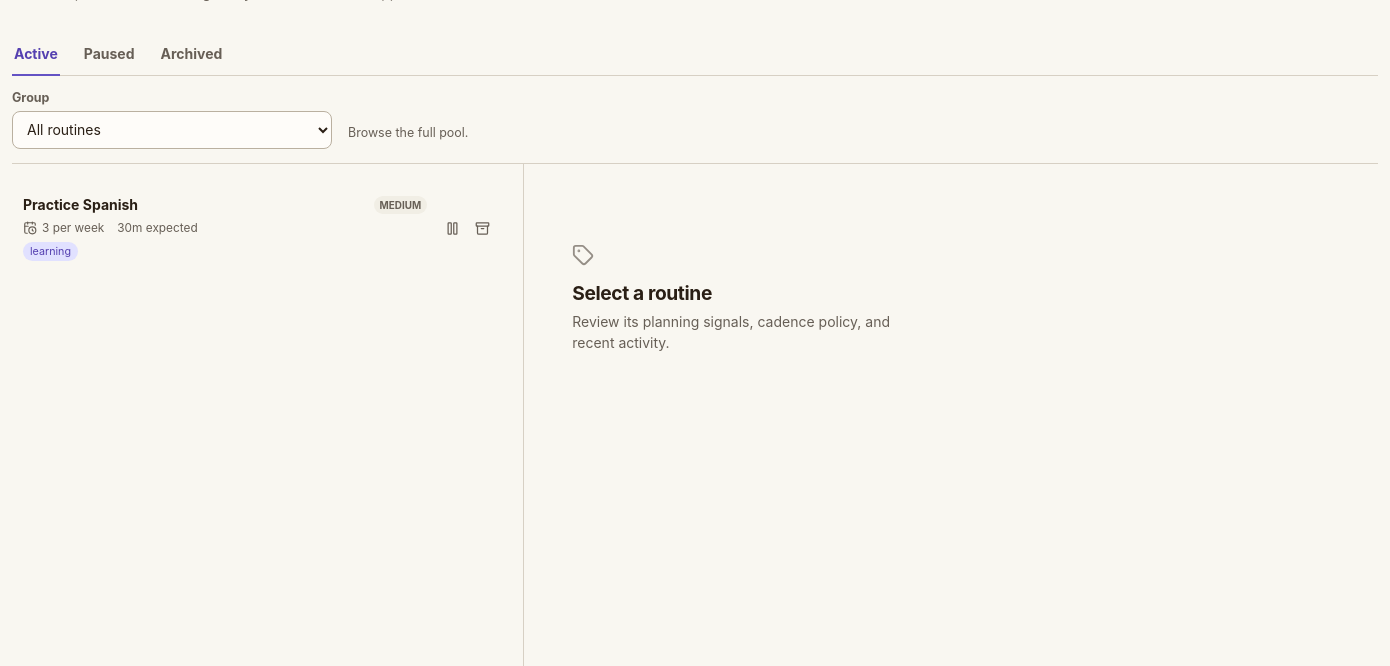
it: routine pool › loads immutable activity history for the selected routine
The image size is (1390, 666).
Click the button "Practice Spanish". click: (81, 205)
box: [13, 183, 437, 274]
(page scrolled)
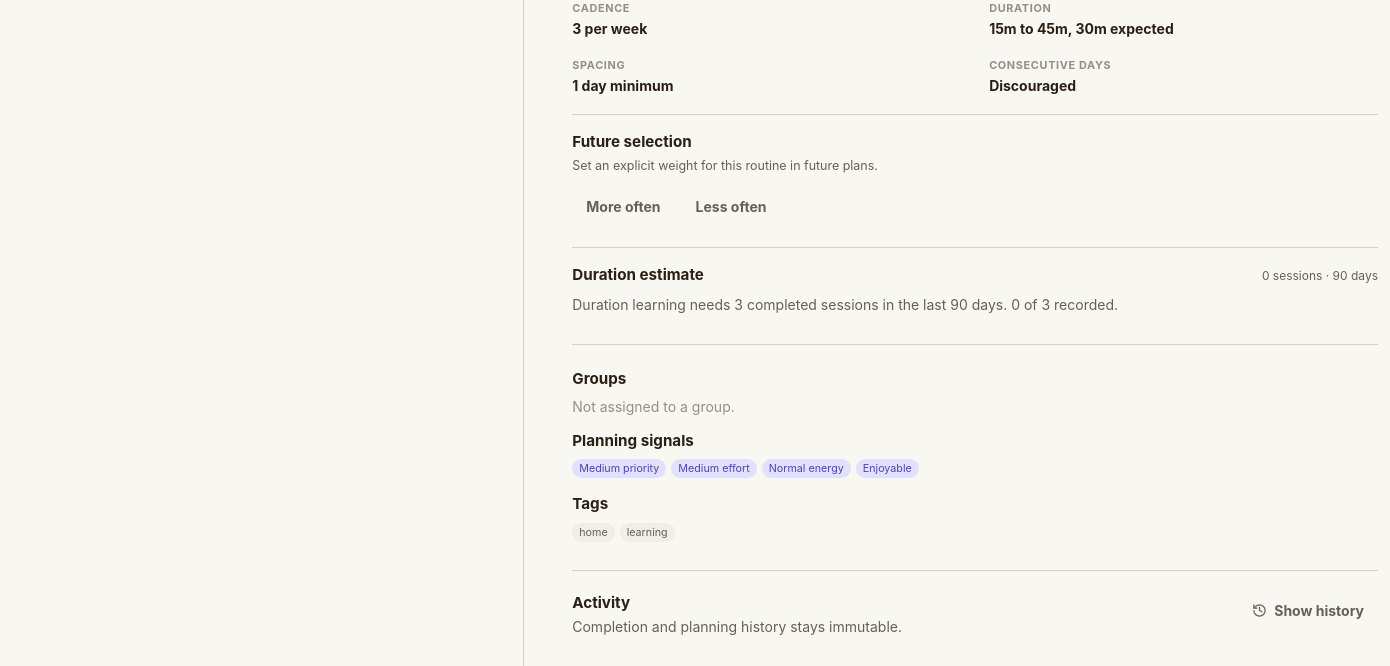
Click the button "Show history". click: (1308, 611)
box: [1238, 593, 1378, 629]
(page scrolled)
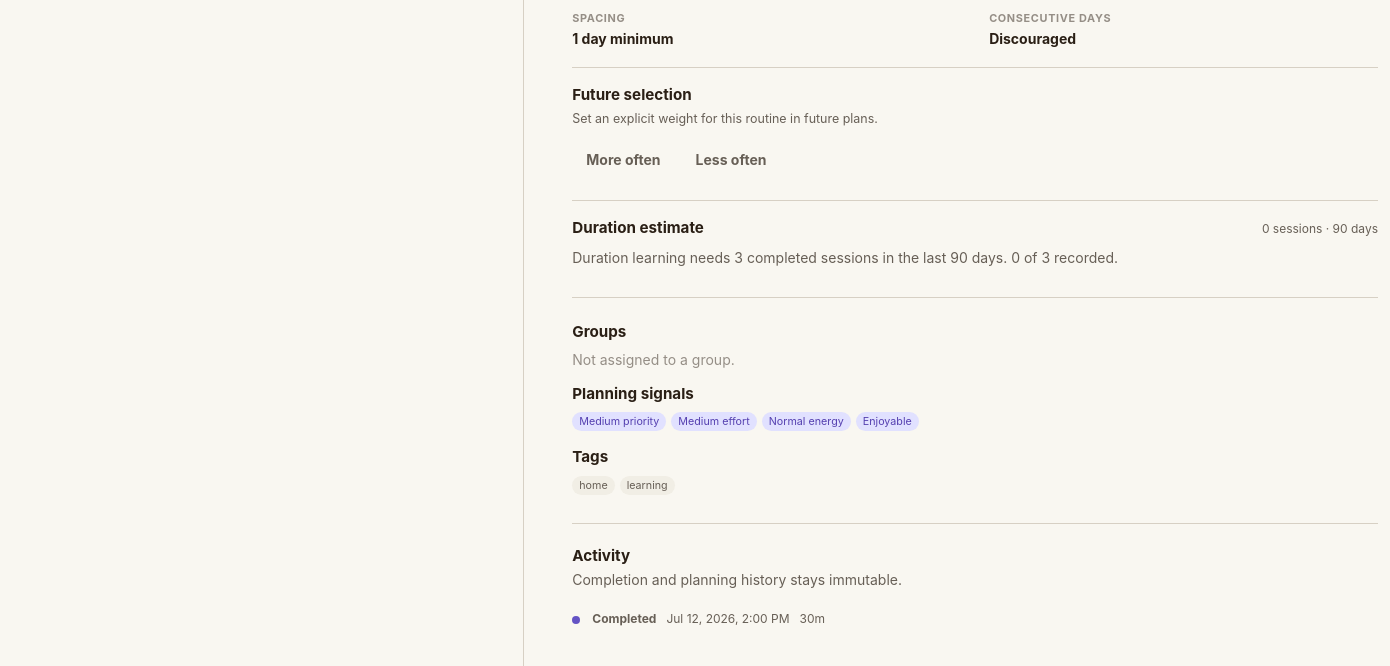
Expected: the text "Completed" is shown, [592, 611, 656, 626]
Expected: the text "30m" is shown, [800, 611, 825, 626]
